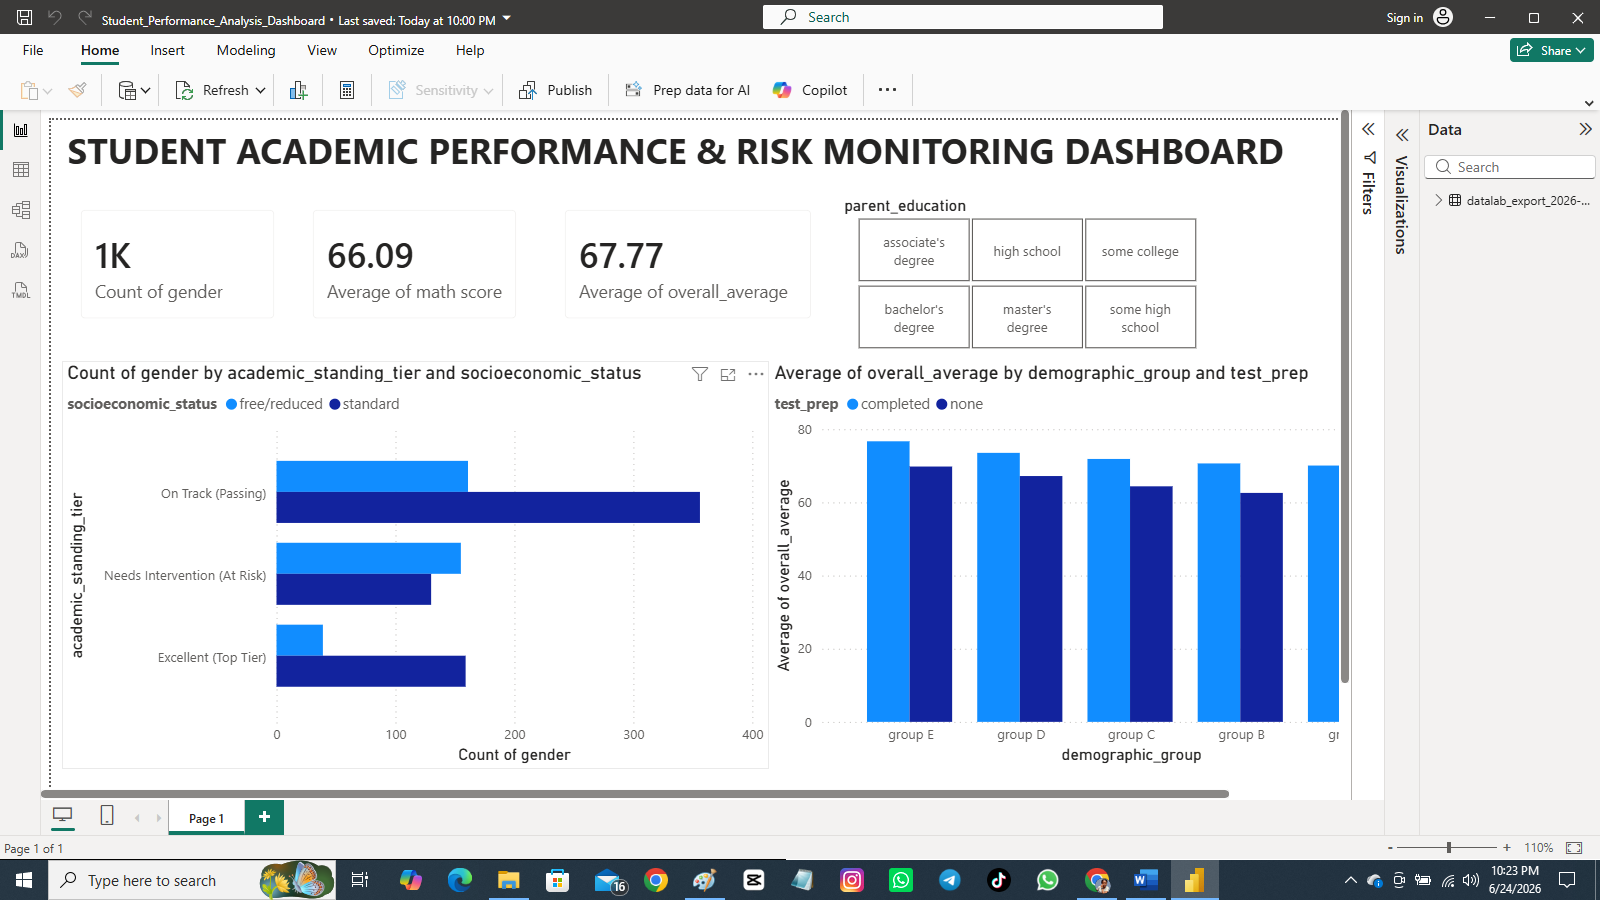

Layout of this report page (visuals, bound fields, positions):
{"tool":"powerbi","page":{"name":"Page 1","canvas":[1280,720],"ordinal":0},"visuals":[{"type":"textbox","box":[10.3,0,1180.3,64.9],"z":0},{"type":"cardVisual","fields":{"Data":["CountNonNull(datalab_export_2026-06-24 20_39_24.gender)"]},"box":[10.3,64.9,210.8,133.3],"z":1000},{"type":"cardVisual","fields":{"Data":["Avg(datalab_export_2026-06-24 20_39_24.math score)"]},"box":[221,64.9,219.9,133.3],"z":2000},{"type":"cardVisual","fields":{"Data":["Avg(datalab_export_2026-06-24 20_39_24.overall_average)"]},"box":[450,64.9,258.6,133.3],"z":3000},{"type":"clusteredBarChart","fields":{"Category":["datalab_export_2026-06-24 20_39_24.academic_standing_tier"],"Y":["CountNonNull(datalab_export_2026-06-24 20_39_24.gender)"],"Series":["datalab_export_2026-06-24 20_39_24.socioeconomic_status"]},"box":[10.3,218.7,642.5,371.4],"z":4000},{"type":"clusteredColumnChart","fields":{"Category":["datalab_export_2026-06-24 20_39_24.demographic_group"],"Y":["Avg(datalab_export_2026-06-24 20_39_24.overall_average)"],"Series":["datalab_export_2026-06-24 20_39_24.test_prep"]},"box":[652.8,218.7,615.2,371.4],"z":4001},{"type":"slicer","fields":{"Values":["datalab_export_2026-06-24 20_39_24.parent_education"]},"box":[708.6,64.9,356.6,150.4],"z":4002}]}

Visuals, with their boxes on the page's 1280x720 design canvas (x1, y1, x2, y2). These are canvas units, not pixel positions in the 1600x900 screenshot, which may show the page scaled, cropped or inside an application window:
textbox: locate(10, 0, 1191, 65)
cardVisual - CountNonNull(datalab_export_2026-06-24 20_39_24.gender): locate(10, 65, 221, 198)
cardVisual - Avg(datalab_export_2026-06-24 20_39_24.math score): locate(221, 65, 441, 198)
cardVisual - Avg(datalab_export_2026-06-24 20_39_24.overall_average): locate(450, 65, 709, 198)
clusteredBarChart - datalab_export_2026-06-24 20_39_24.academic_standing_tier x CountNonNull(datalab_export_2026-06-24 20_39_24.gender): locate(10, 219, 653, 590)
clusteredColumnChart - datalab_export_2026-06-24 20_39_24.demographic_group x Avg(datalab_export_2026-06-24 20_39_24.overall_average): locate(653, 219, 1268, 590)
slicer - datalab_export_2026-06-24 20_39_24.parent_education: locate(709, 65, 1065, 215)
